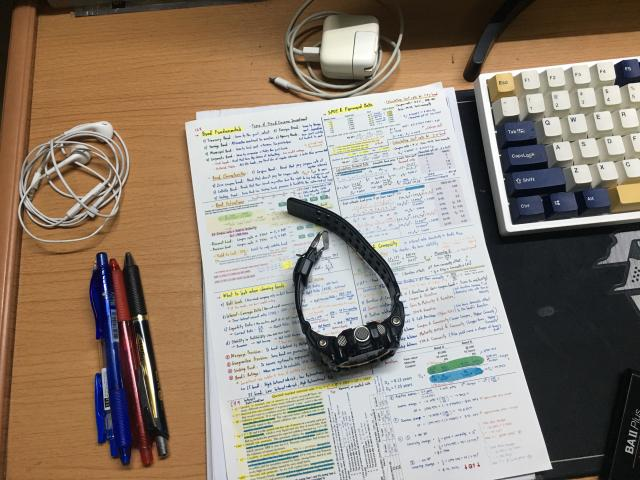Pen: (88, 255, 170, 468)
Watch: (286, 198, 405, 371)
paper: (185, 84, 551, 479), (304, 234, 390, 335)
wire: (18, 121, 130, 243), (270, 0, 404, 99)
